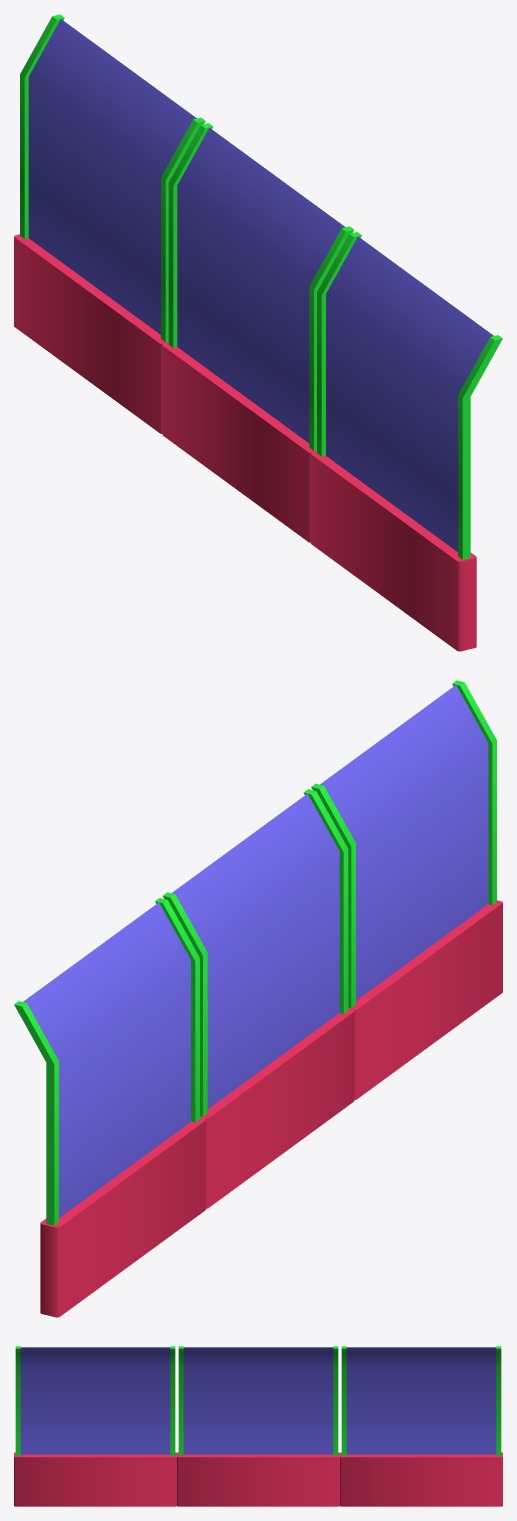
Rendered from SM_Fence_1_Bake.fbx.
3 renders of one model, top to bottom at view 1: azimuth 30°, elevation 25°; view 2: azimuth 150°, elevation 25°; view 3: azimuth 270°, elevation 25°, orthographic. The views are drawn at different scales.
Visible parts, largest first — view 1: Cube.002, Fence, Cube.001; view 2: Cube.001, Fence, Cube.002; view 3: Fence, Cube.001, Cube.002.
Part boxes in pixels (bbox=[...]): Cube.002: bbox=[311, 232, 502, 651]; Fence: bbox=[162, 123, 353, 542]; Cube.001: bbox=[14, 14, 205, 433]; Cube.001: bbox=[14, 898, 205, 1317]; Fence: bbox=[163, 789, 354, 1208]; Cube.002: bbox=[311, 680, 502, 1099]; Fence: bbox=[177, 1346, 339, 1506]; Cube.001: bbox=[340, 1346, 502, 1506]; Cube.002: bbox=[14, 1346, 176, 1506].
Size of the model in its own units: 0.8911 by 5.59 by 15.
